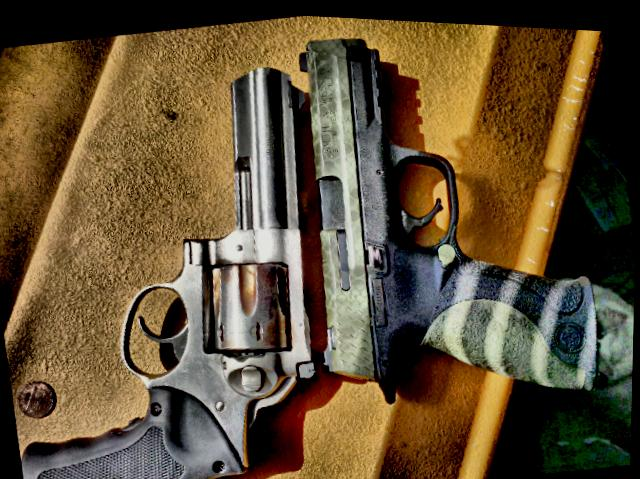pistol: (0, 51, 365, 479), (274, 11, 619, 423)
